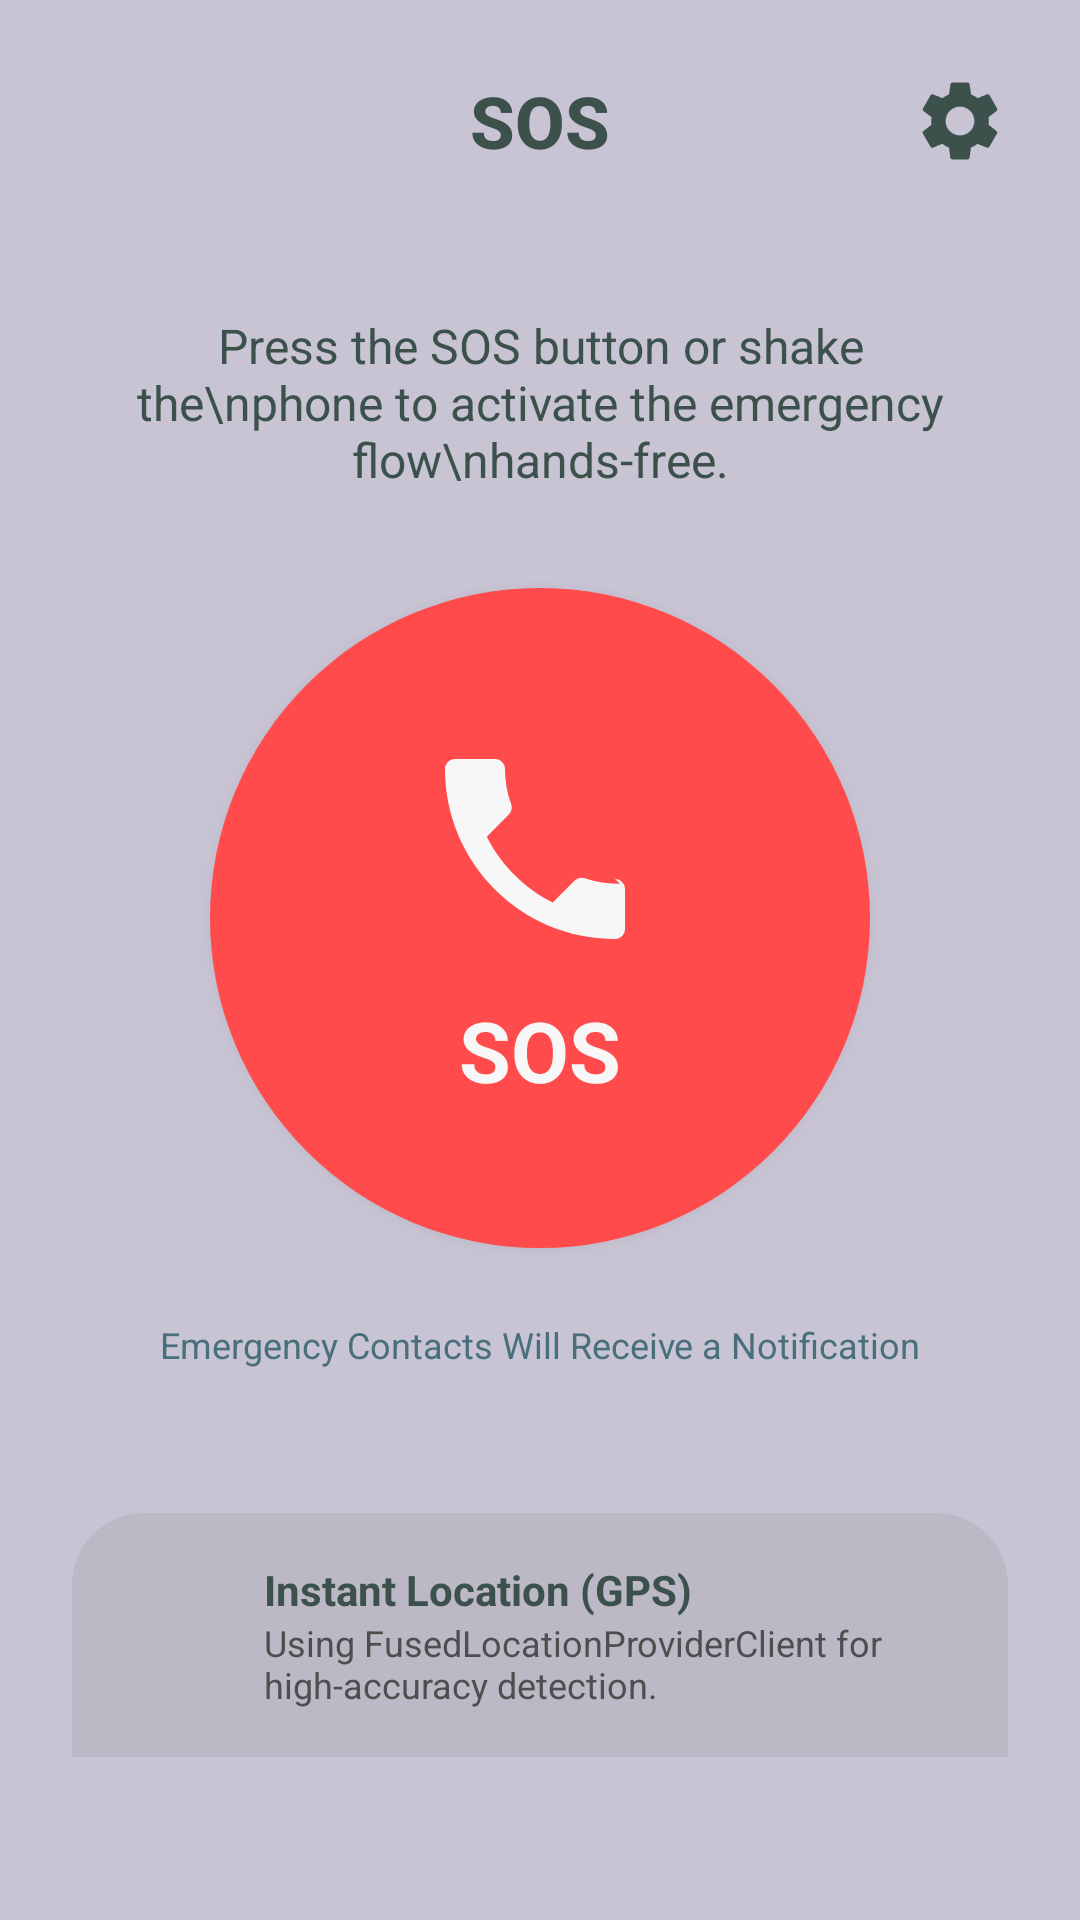

Locate icon controls on the screen. Image size 1080x1920, boxes as (x1, y1, x2, y2).
call alert: (445, 759, 625, 939)
settings: (922, 82, 998, 160)
